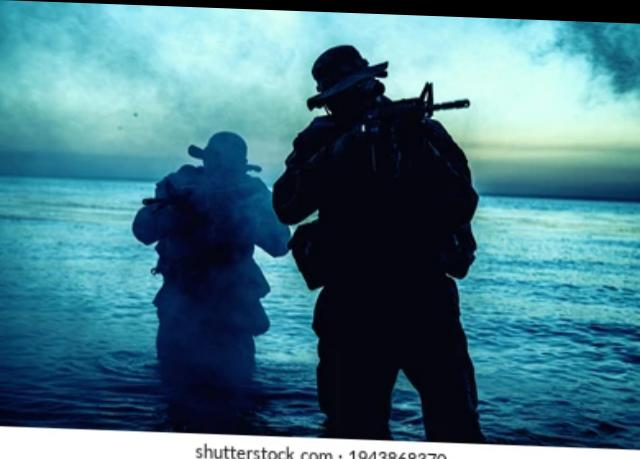other: (270, 29, 504, 431)
